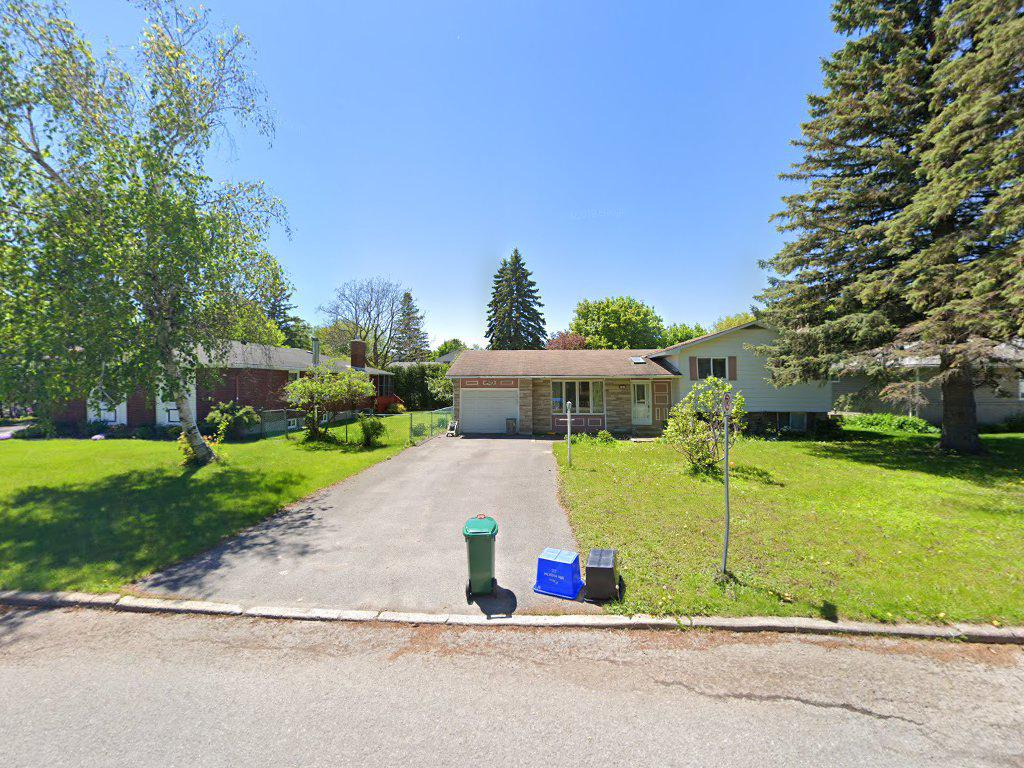trunk: (926, 351, 996, 472), (167, 379, 222, 473)
